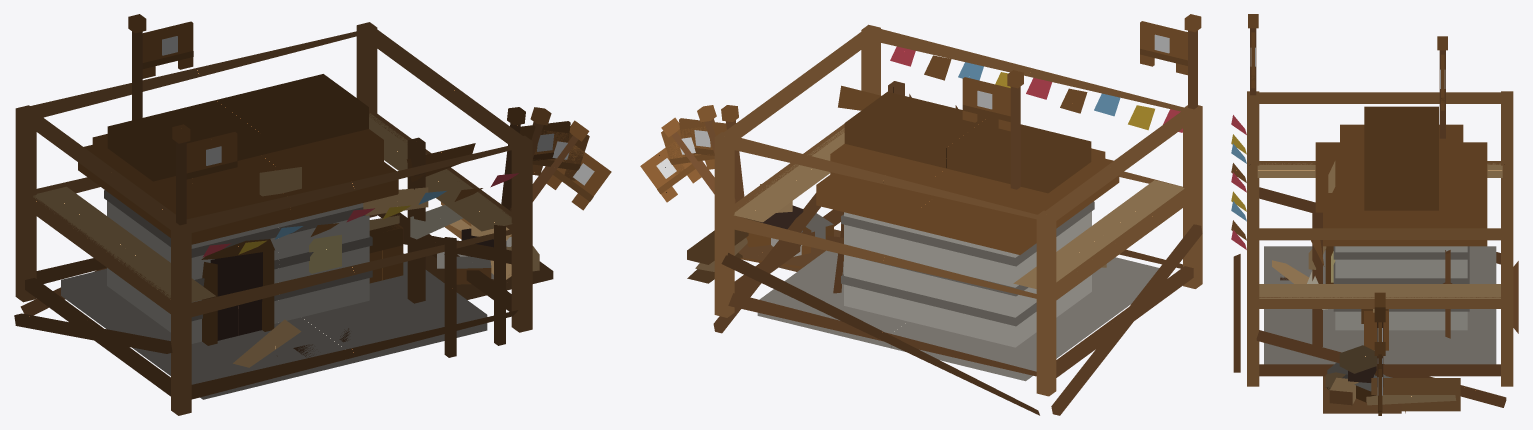
The model's file is bear-research_lod1.glb.
The picture shows the model from 3 angles, left to right: view 1: azimuth 30°, elevation 25°; view 2: azimuth 150°, elevation 25°; view 3: azimuth 270°, elevation 25°; orthographic projection. The views are drawn at different scales.
Parts seen in each view (by area): view 1: scaffold-mesh, built-mesh, dismantle-75-mesh, dismantle-50-mesh, banner, scaffold-banner, dismantle-25-banner, dismantle-50-banner, flag-pole, scaffold-flag-pole, dismantle-25-mesh, dismantle-75-banner (+2 smaller); view 2: scaffold-mesh, built-mesh, dismantle-75-mesh, dismantle-50-mesh, banner, scaffold-banner, dismantle-25-banner, flag-pole, dismantle-25-mesh, dismantle-50-banner, scaffold-flag-pole, dismantle-75-banner (+2 smaller); view 3: scaffold-mesh, built-mesh, dismantle-75-mesh, dismantle-50-mesh, dismantle-25-mesh, flag-pole, scaffold-flag-pole, banner, scaffold-banner.
Part boxes in pixels (x1=…): scaffold-mesh: x1=14, y1=22, x2=532, y2=415; built-mesh: x1=78, y1=74, x2=475, y2=333; dismantle-75-mesh: x1=104, y1=180, x2=553, y2=399; dismantle-50-mesh: x1=202, y1=228, x2=550, y2=367; banner: x1=142, y1=21, x2=193, y2=78; scaffold-banner: x1=186, y1=132, x2=237, y2=188; dismantle-25-banner: x1=546, y1=145, x2=611, y2=210; dismantle-50-banner: x1=532, y1=130, x2=589, y2=180; flag-pole: x1=128, y1=14, x2=146, y2=120; scaffold-flag-pole: x1=172, y1=124, x2=190, y2=225; dismantle-25-mesh: x1=407, y1=224, x2=511, y2=302; dismantle-75-banner: x1=520, y1=121, x2=570, y2=162; scaffold-mesh: x1=687, y1=24, x2=1202, y2=415; built-mesh: x1=816, y1=81, x2=1119, y2=347; dismantle-75-mesh: x1=738, y1=202, x2=1094, y2=380; dismantle-50-mesh: x1=739, y1=213, x2=1106, y2=380; banner: x1=962, y1=77, x2=1010, y2=131; scaffold-banner: x1=1140, y1=21, x2=1187, y2=75; dismantle-25-banner: x1=640, y1=142, x2=701, y2=202; flag-pole: x1=1007, y1=70, x2=1023, y2=189; dismantle-25-mesh: x1=740, y1=184, x2=833, y2=268; dismantle-50-banner: x1=661, y1=126, x2=714, y2=174; scaffold-flag-pole: x1=1184, y1=14, x2=1201, y2=109; dismantle-75-banner: x1=679, y1=118, x2=726, y2=157; scaffold-mesh: x1=1231, y1=91, x2=1518, y2=411; built-mesh: x1=1307, y1=106, x2=1487, y2=338; dismantle-75-mesh: x1=1309, y1=246, x2=1469, y2=413; dismantle-50-mesh: x1=1264, y1=246, x2=1496, y2=413; dismantle-25-mesh: x1=1329, y1=345, x2=1405, y2=413; flag-pole: x1=1437, y1=36, x2=1447, y2=138; scaffold-flag-pole: x1=1248, y1=14, x2=1258, y2=95; banner: x1=1440, y1=54, x2=1445, y2=110; scaffold-banner: x1=1250, y1=32, x2=1255, y2=88.
Size of the model in its own units: 2.74 by 1.59 by 1.61.
